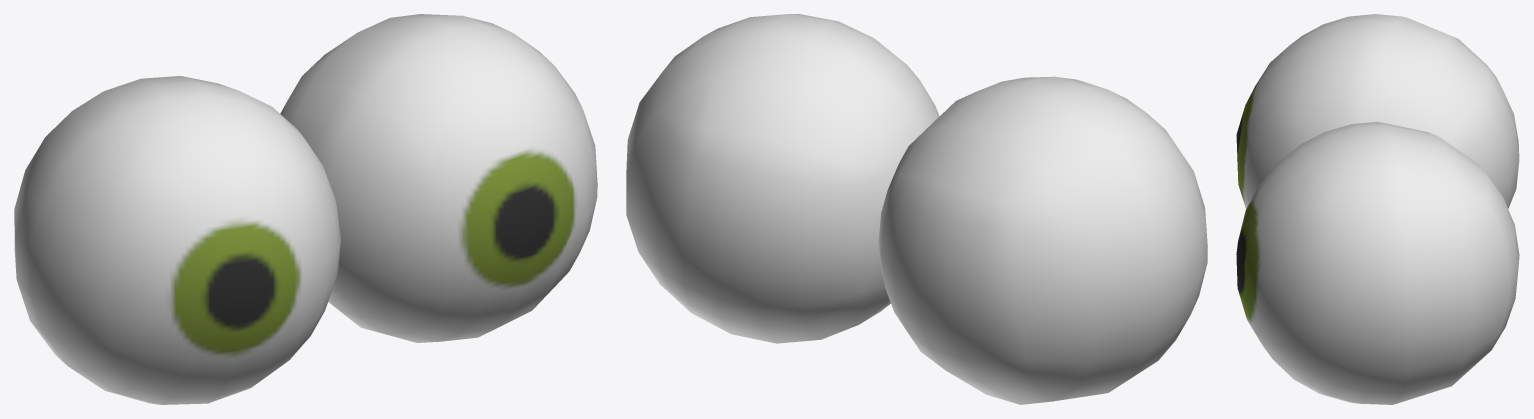
Rendered from Anim_Shoot_Dualzi.fbx.
3 views of the same model, side by side, from view 1: azimuth 30°, elevation 25°; view 2: azimuth 150°, elevation 25°; view 3: azimuth 270°, elevation 25° (orthographic). The views are drawn at different scales.
Visible parts, largest first — view 1: polySurface19, polySurface18; view 2: polySurface19, polySurface18; view 3: polySurface18, polySurface19.
Part boxes in pixels (left/top/right/bottom): polySurface19: left=14, top=76, right=340, bottom=404; polySurface18: left=280, top=14, right=597, bottom=342; polySurface19: left=878, top=76, right=1207, bottom=404; polySurface18: left=626, top=14, right=939, bottom=343; polySurface18: left=1236, top=121, right=1519, bottom=404; polySurface19: left=1236, top=14, right=1519, bottom=209.
Size of the model in its own units: 20.97 by 11.08 by 11.03.
